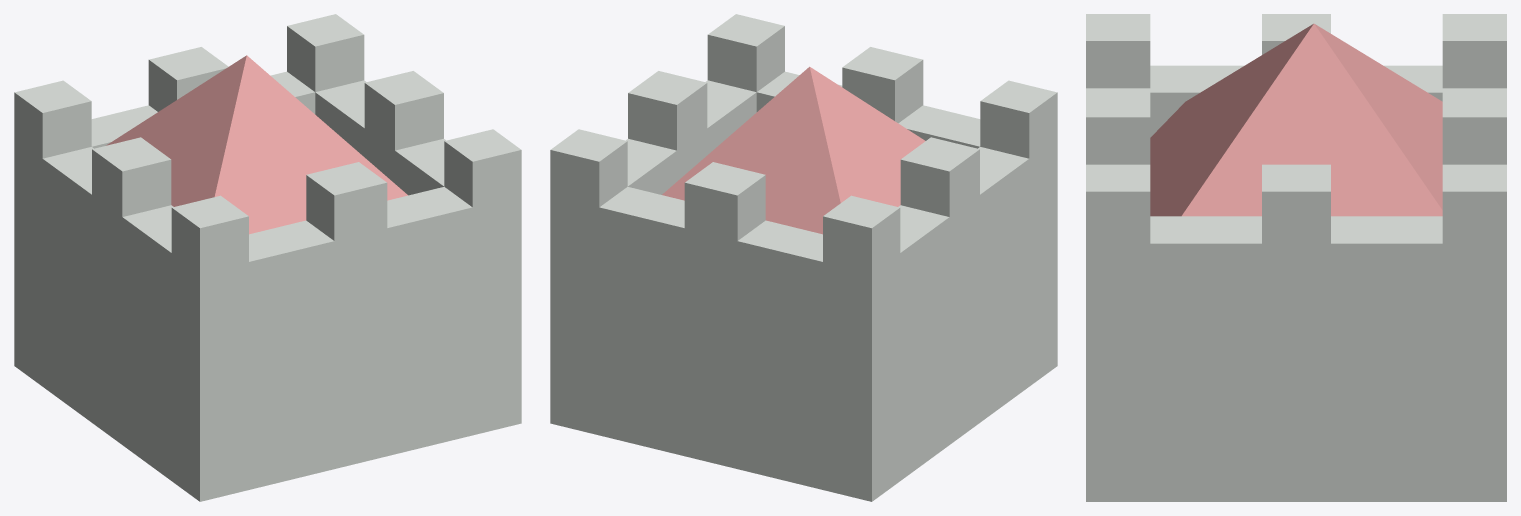
Rendered from tower-defense-classic--tile-055.glb.
3 renders of one model, left to right at view 1: azimuth 30°, elevation 25°; view 2: azimuth 150°, elevation 25°; view 3: azimuth 270°, elevation 25°, orthographic. The views are drawn at different scales.
Parts seen in each view (by area): view 1: tile_055, Group; view 2: tile_055, Group; view 3: tile_055, Group.
Boxes of the visible parts, x1,y1,x2,y2 form: tile_055: (14,14,521,501); Group: (106,55,407,234); tile_055: (550,14,1057,501); Group: (662,66,925,234); tile_055: (1086,14,1506,501); Group: (1150,23,1442,216).
Size of the model in its own units: 0.5901 by 0.5914 by 0.5901.
